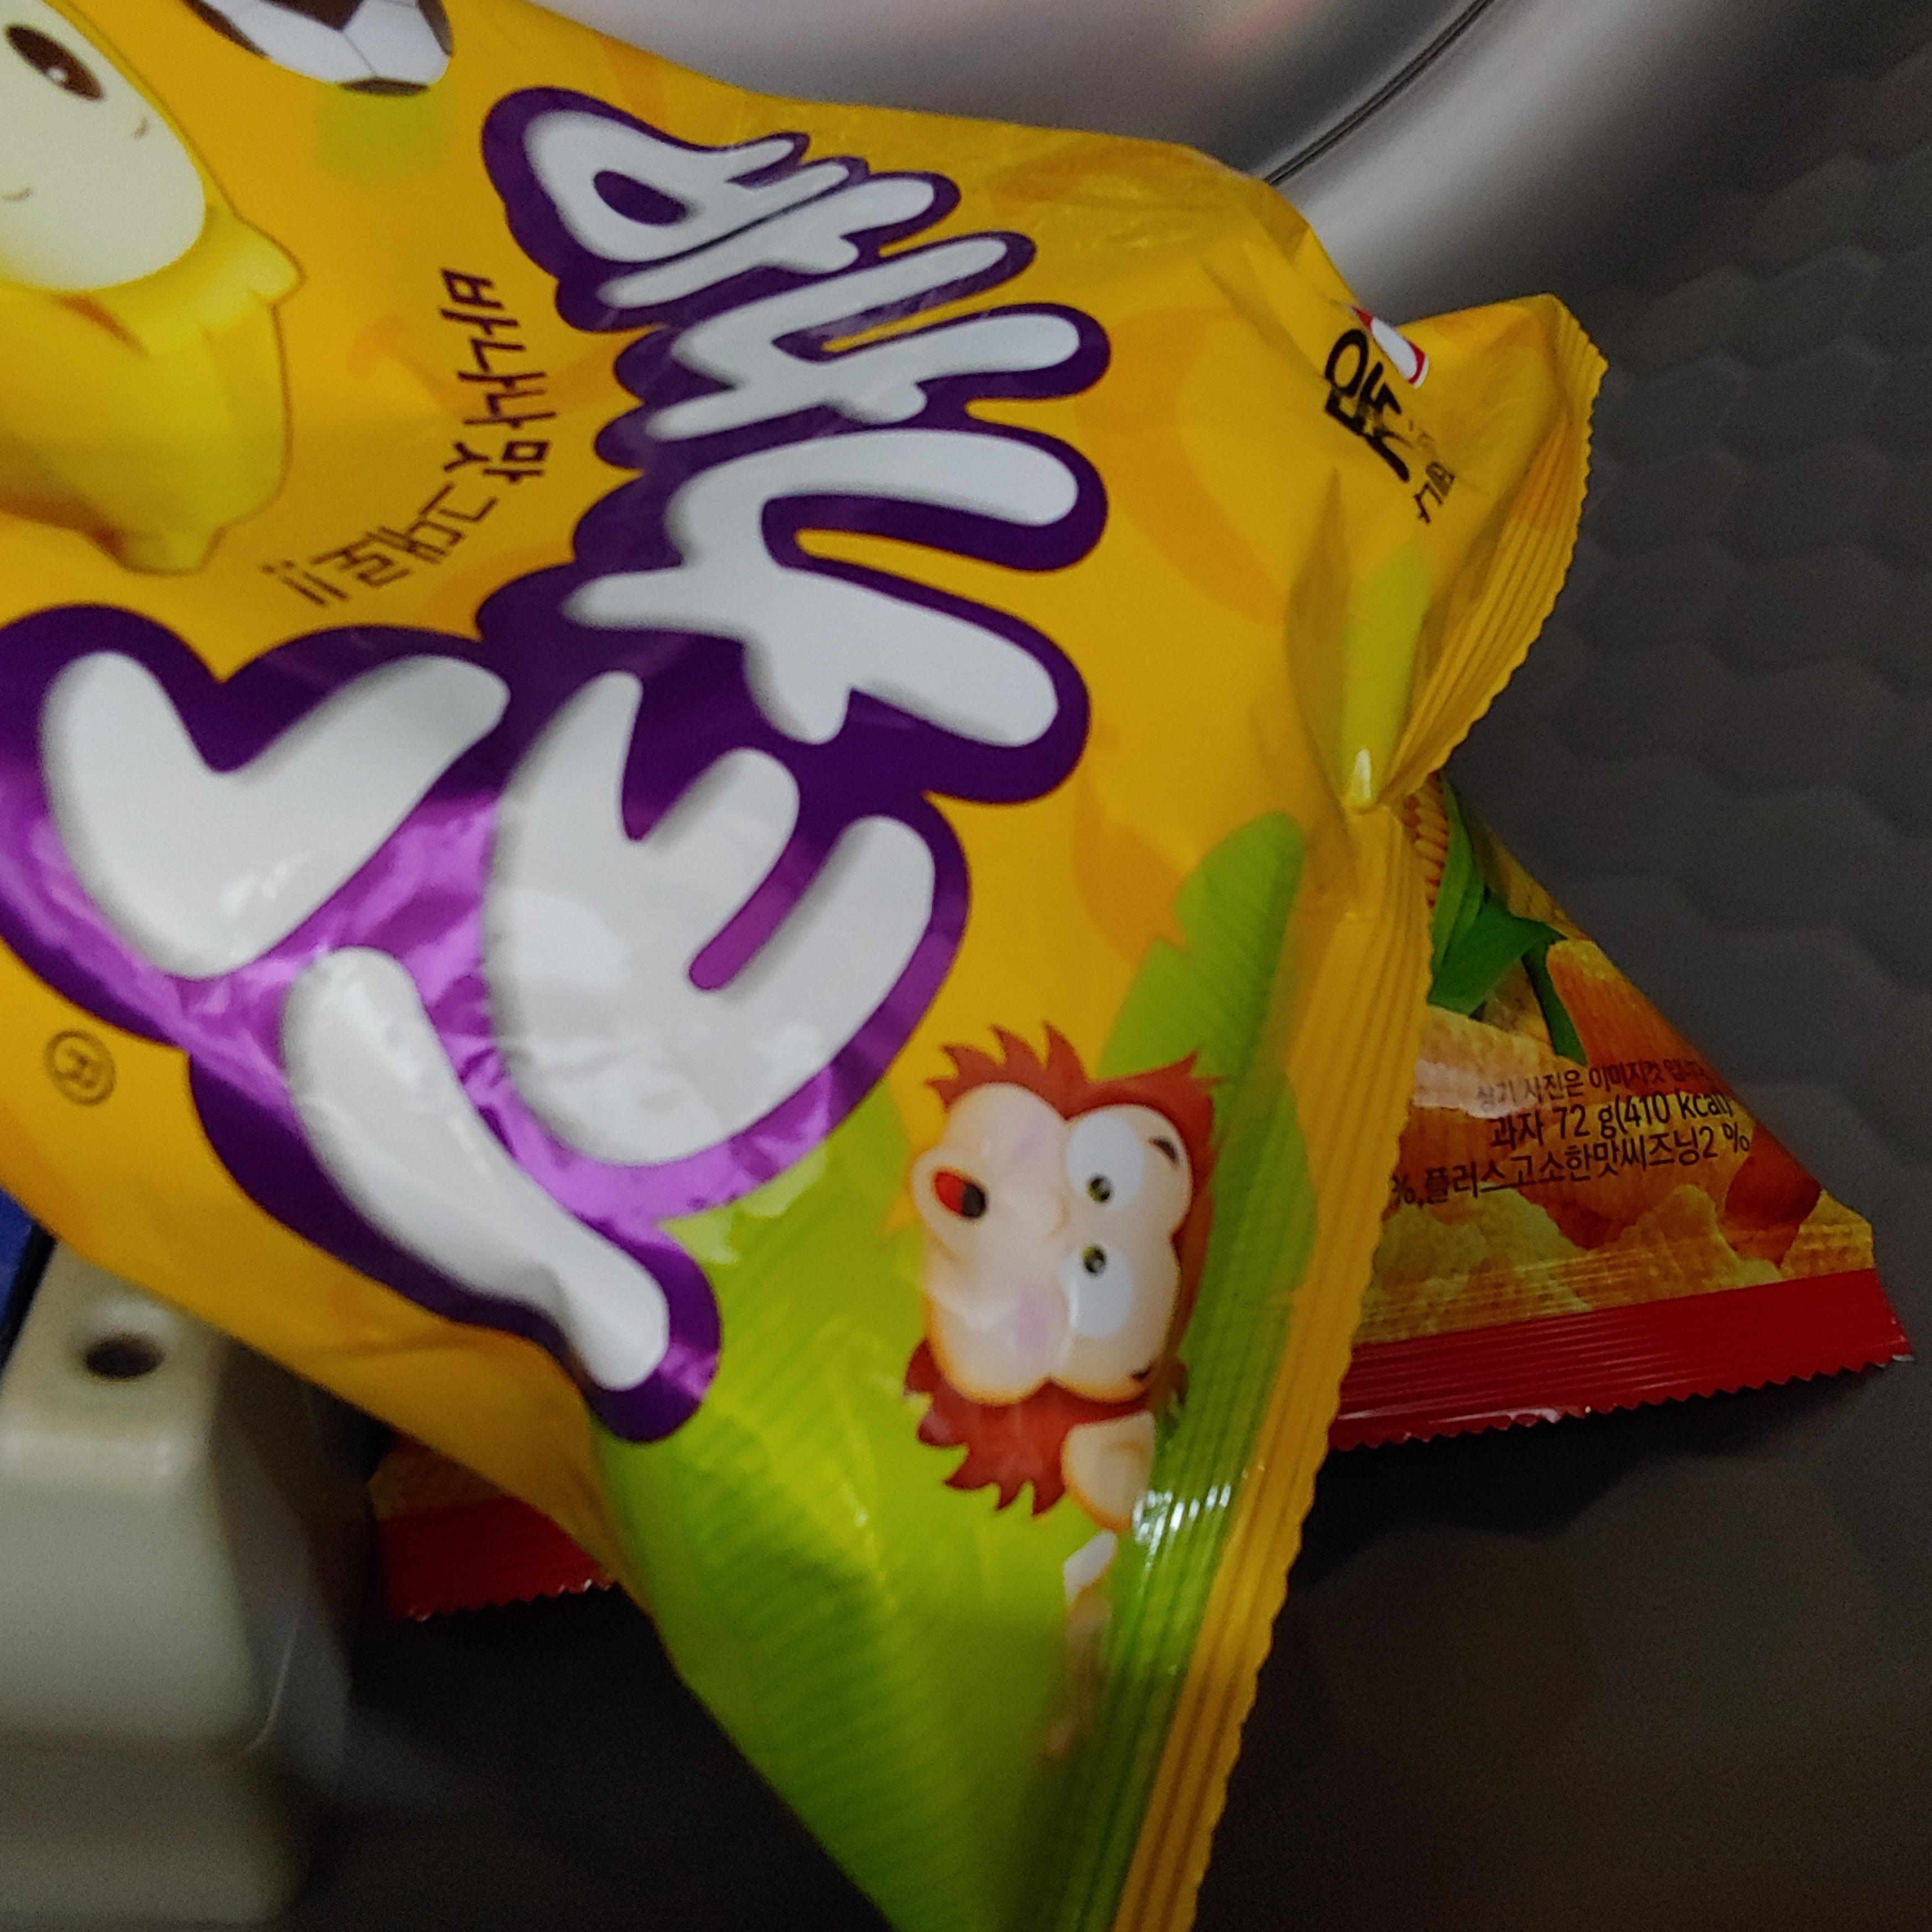banana: (0, 4, 1626, 1932)
ggoggalcon: (1233, 699, 1918, 1507)
